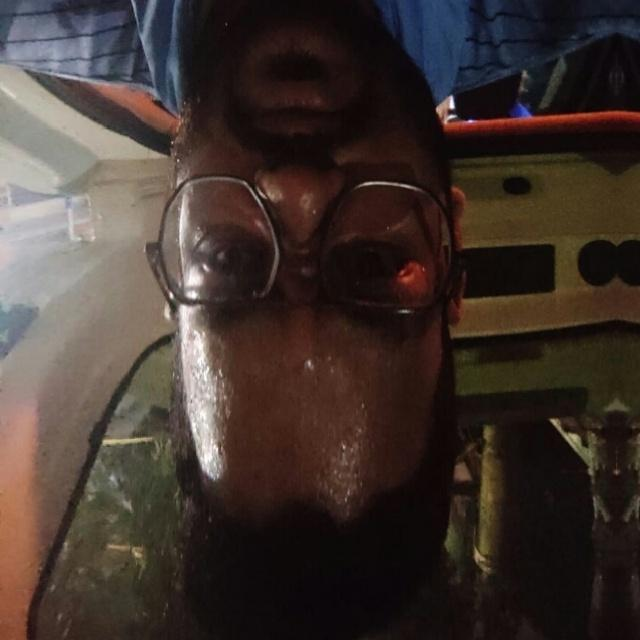Angry: (169, 15, 460, 581)
